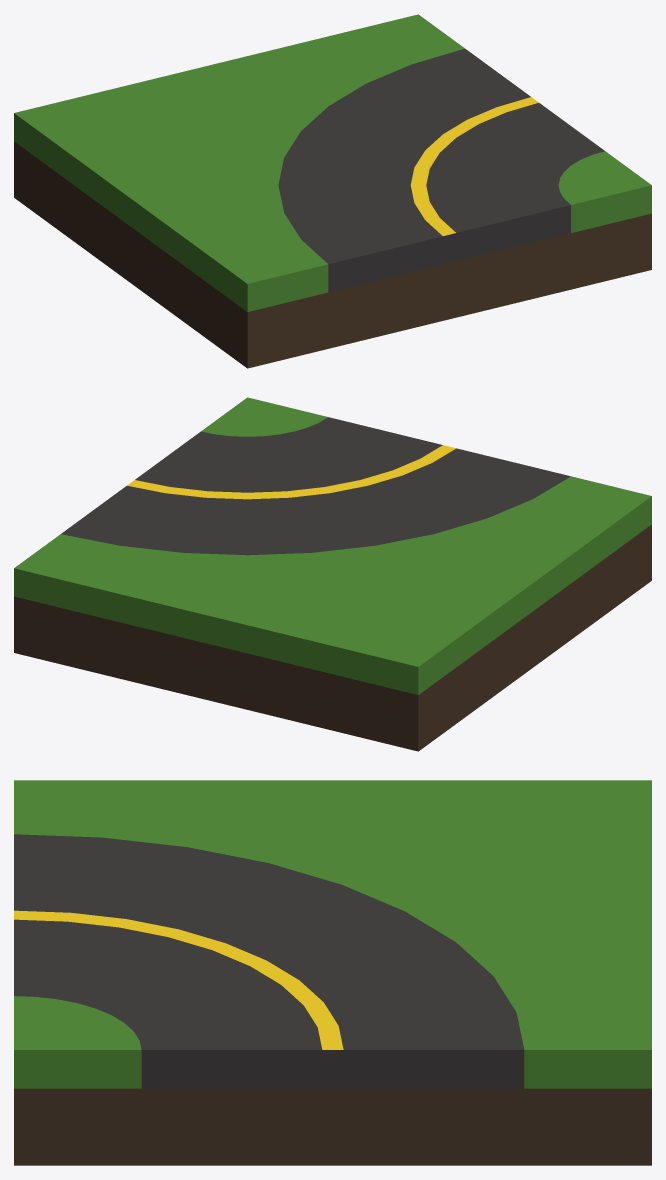
The model's file is tiles_tile-runway-turn.fbx.
The picture shows the model from 3 angles, top to bottom: view 1: azimuth 30°, elevation 25°; view 2: azimuth 150°, elevation 25°; view 3: azimuth 270°, elevation 25°; orthographic projection. The views are drawn at different scales.
Parts seen in each view (by area): view 1: tiles_tile_runway_turn; view 2: tiles_tile_runway_turn; view 3: tiles_tile_runway_turn.
Part boxes in pixels (<box>): tiles_tile_runway_turn: <box>14,14,651,368</box>; tiles_tile_runway_turn: <box>14,397,651,751</box>; tiles_tile_runway_turn: <box>14,780,651,1165</box>.
Bounding box in the file's own units: 200 × 40 × 200.
